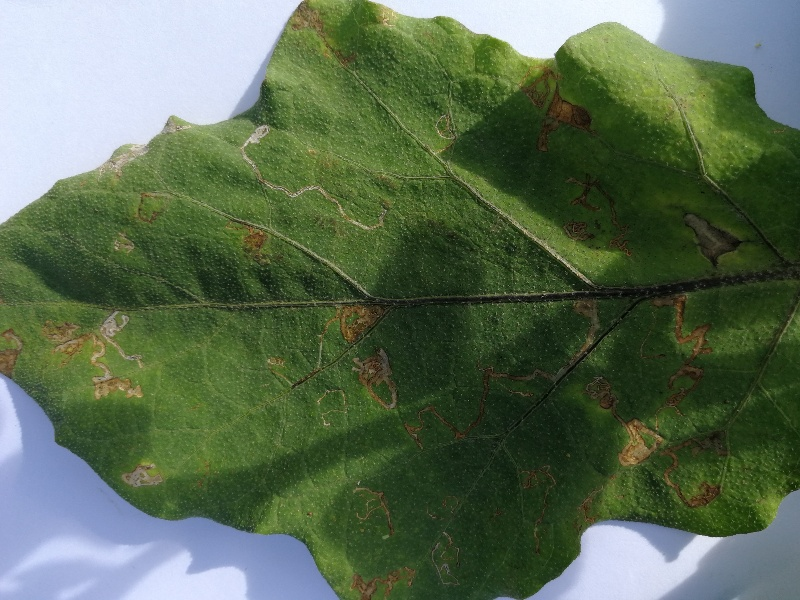leafminer: (402, 298, 604, 462), (235, 121, 390, 237), (614, 413, 732, 515), (38, 307, 149, 414), (515, 61, 608, 160), (641, 295, 722, 408), (415, 481, 475, 595), (555, 169, 633, 248), (508, 462, 558, 561), (346, 345, 402, 428), (329, 561, 427, 600), (348, 478, 402, 548), (320, 299, 395, 342), (117, 446, 169, 495), (581, 373, 628, 420), (1, 322, 28, 373), (558, 218, 596, 244)
